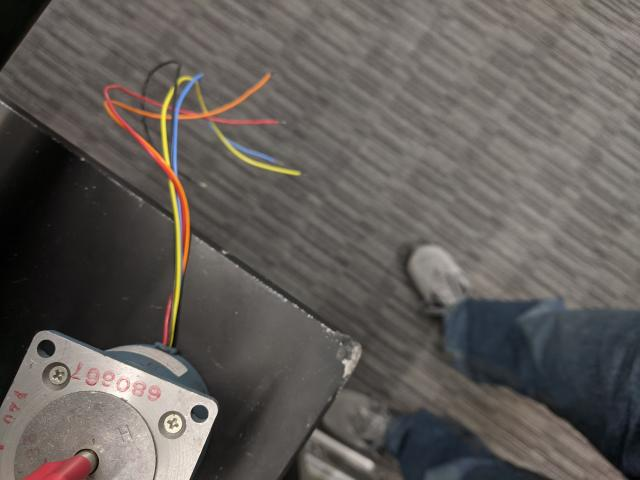CRS: (48, 364, 69, 388), (164, 413, 183, 434)
